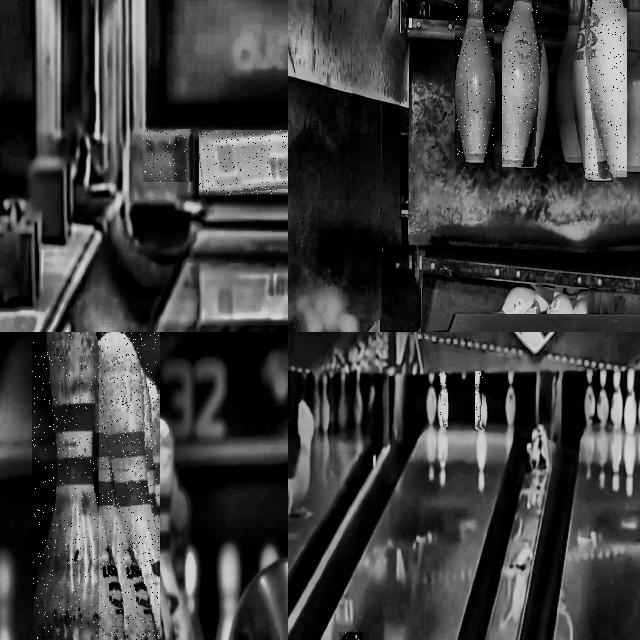bowling-pins: (33, 332, 122, 640), (101, 332, 159, 640), (154, 415, 195, 640), (586, 0, 625, 178), (502, 0, 542, 165), (456, 0, 494, 159), (555, 0, 584, 162), (143, 528, 173, 640), (148, 387, 158, 457), (506, 371, 517, 426), (426, 372, 437, 424), (440, 371, 448, 426), (476, 371, 483, 427)
sweep board: (200, 130, 288, 195), (143, 131, 192, 182)
